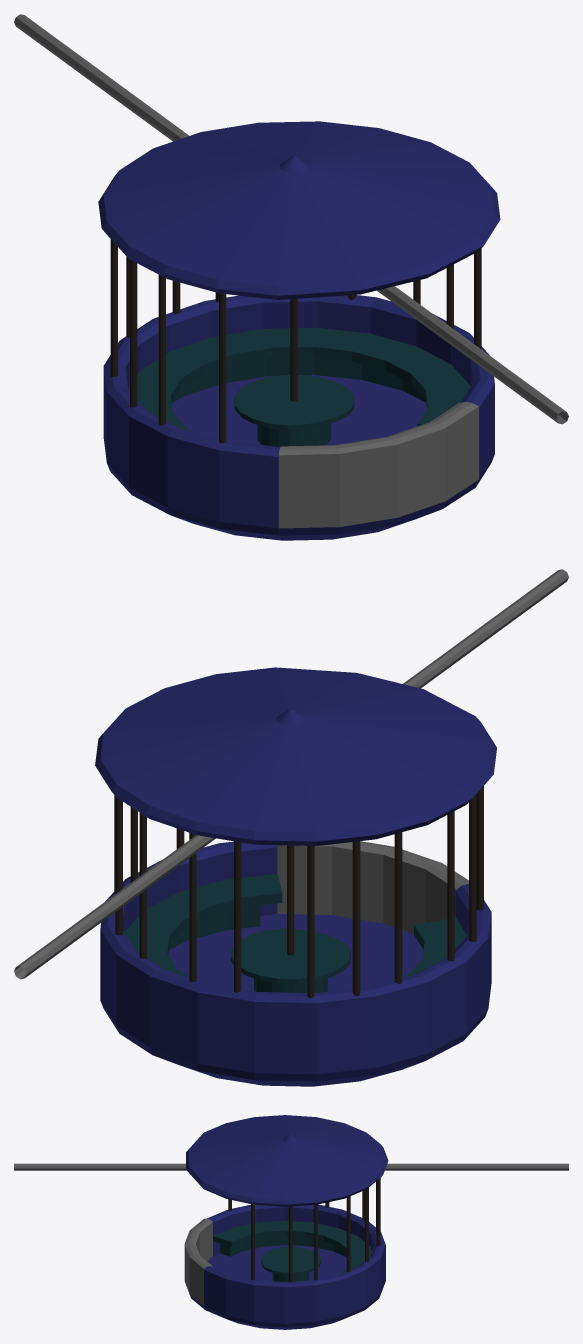
The model's file is cadeiras.obj.
3 views of the same model, one above another, from view 1: azimuth 30°, elevation 25°; view 2: azimuth 150°, elevation 25°; view 3: azimuth 270°, elevation 25° (orthographic). The views are drawn at different scales.
Parts seen in each view (by area): view 1: Cylinder.043_Cylinder.055, Cylinder.042_Cylinder.054, Cylinder.041_Cylinder.053, Cylinder.040_Cylinder.052, Cylinder.044_Cylinder.056; view 2: Cylinder.043_Cylinder.055, Cylinder.042_Cylinder.054, Cylinder.040_Cylinder.052, Cylinder.041_Cylinder.053, Cylinder.044_Cylinder.056; view 3: Cylinder.043_Cylinder.055, Cylinder.042_Cylinder.054, Cylinder.044_Cylinder.056, Cylinder.040_Cylinder.052, Cylinder.041_Cylinder.053.
Part boxes in pixels (x1,y1,x2,y2): Cylinder.043_Cylinder.055: (98,121,500,540); Cylinder.042_Cylinder.054: (128,327,470,446); Cylinder.041_Cylinder.053: (278,401,478,528); Cylinder.040_Cylinder.052: (110,239,481,443); Cylinder.044_Cylinder.056: (14,14,568,424); Cylinder.043_Cylinder.055: (95,667,496,1086); Cylinder.042_Cylinder.054: (124,874,466,992); Cylinder.040_Cylinder.052: (114,786,483,998); Cylinder.041_Cylinder.053: (277,841,468,933); Cylinder.044_Cylinder.056: (14,569,568,979); Cylinder.043_Cylinder.055: (186,1115,388,1329); Cylinder.042_Cylinder.054: (213,1220,371,1281); Cylinder.044_Cylinder.056: (14,1163,568,1170); Cylinder.040_Cylinder.052: (228,1178,380,1282); Cylinder.041_Cylinder.053: (184,1218,212,1305).
Bounding box in the file's own units: 2.06 × 1.82 × 5.52.
